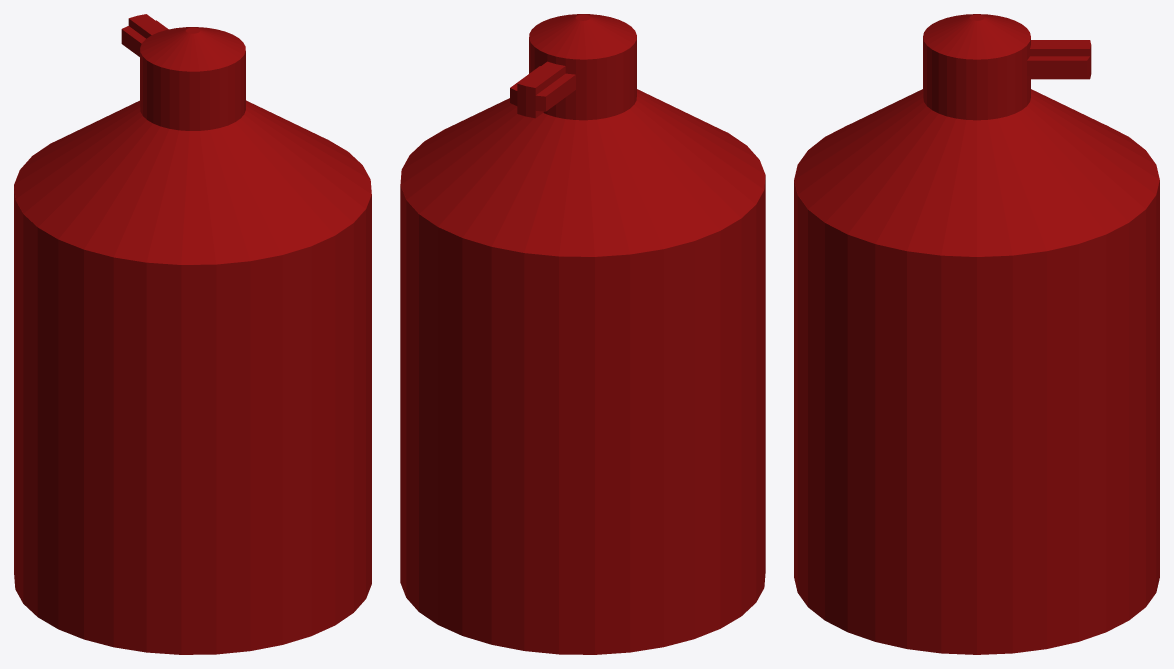
File: Freeze.obj
3 renders of one model, left to right at view 1: azimuth 30°, elevation 25°; view 2: azimuth 150°, elevation 25°; view 3: azimuth 270°, elevation 25°, orthographic. The views are drawn at different scales.
Visible parts, largest first — view 1: 円柱; view 2: 円柱; view 3: 円柱.
Part boxes in pixels (x1,y1,x2,y2): 円柱: [14, 14, 371, 654]; 円柱: [400, 14, 765, 654]; 円柱: [794, 14, 1159, 654].
Size of the model in its own units: 1 by 1.69 by 1.
1 material, 1 textured.
